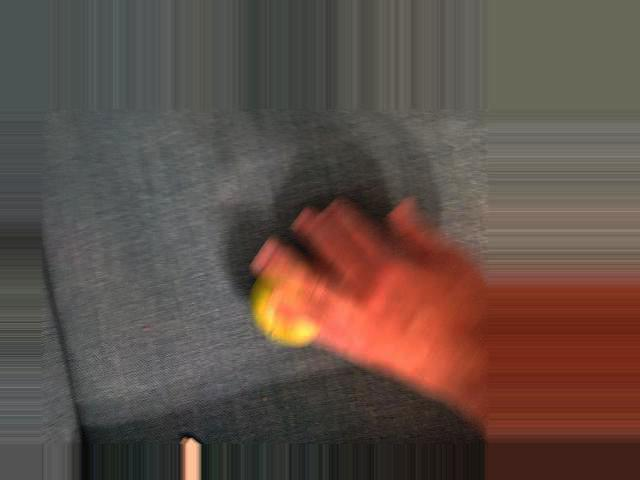apple: (242, 243, 353, 360)
